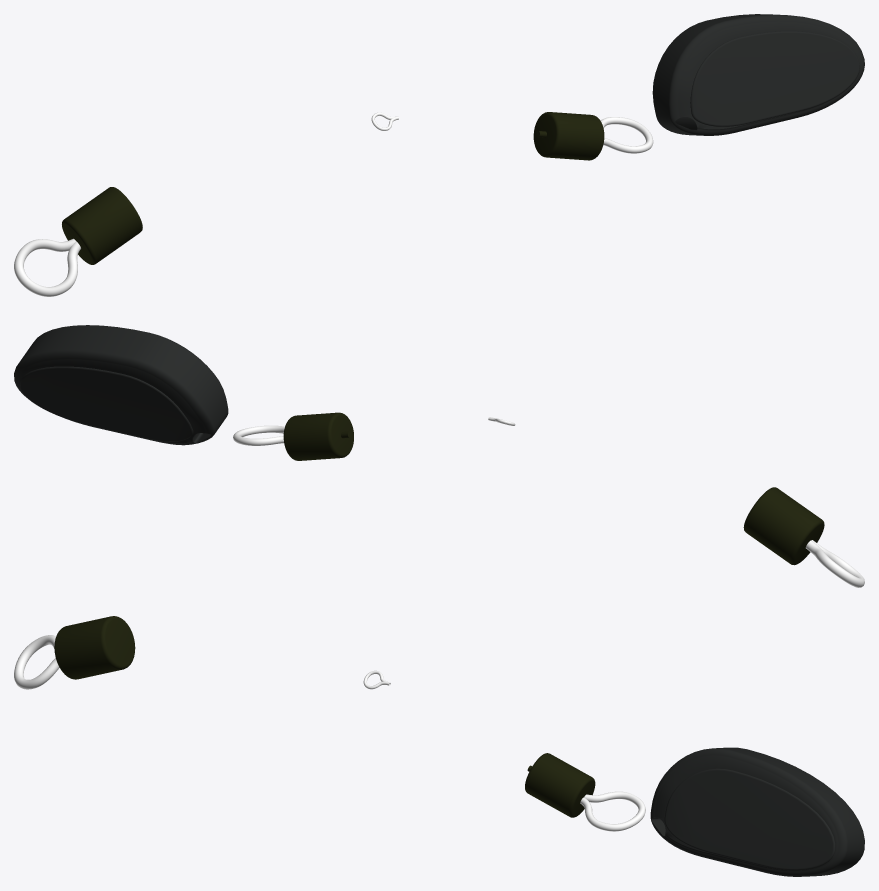
The model's file is nhai_hoi.glb.
3 views of the same model, one above another, from view 1: azimuth 30°, elevation 25°; view 2: azimuth 150°, elevation 25°; view 3: azimuth 330°, elevation 25° (orthographic).
Parts seen in each view (by area): view 1: Cube.002, Cylinder, Cylinder.001, NurbsPath.001, NurbsPath.002; view 2: Cube.002, Cylinder, Cylinder.001, NurbsPath.001, NurbsPath.002; view 3: Cube.002, Cylinder, Cylinder.001, NurbsPath.002, NurbsPath.001.
Boxes of the visible parts, left/top/right/bottom form: Cube.002: left=652, top=14, right=864, bottom=135; Cylinder: left=62, top=187, right=142, bottom=264; Cylinder.001: left=533, top=112, right=604, bottom=160; NurbsPath.001: left=14, top=238, right=80, bottom=296; NurbsPath.002: left=600, top=117, right=653, bottom=153; Cube.002: left=14, top=325, right=228, bottom=445; Cylinder: left=743, top=487, right=824, bottom=565; Cylinder.001: left=283, top=412, right=353, bottom=460; NurbsPath.001: left=805, top=540, right=864, bottom=587; NurbsPath.002: left=233, top=425, right=284, bottom=445; Cube.002: left=650, top=747, right=864, bottom=876; Cylinder: left=54, top=616, right=135, bottom=679; Cylinder.001: left=525, top=753, right=595, bottom=817; NurbsPath.002: left=580, top=791, right=645, bottom=831; NurbsPath.001: left=14, top=635, right=59, bottom=689.
Size of the model in its own units: 4.72 by 0.5788 by 0.4179.
